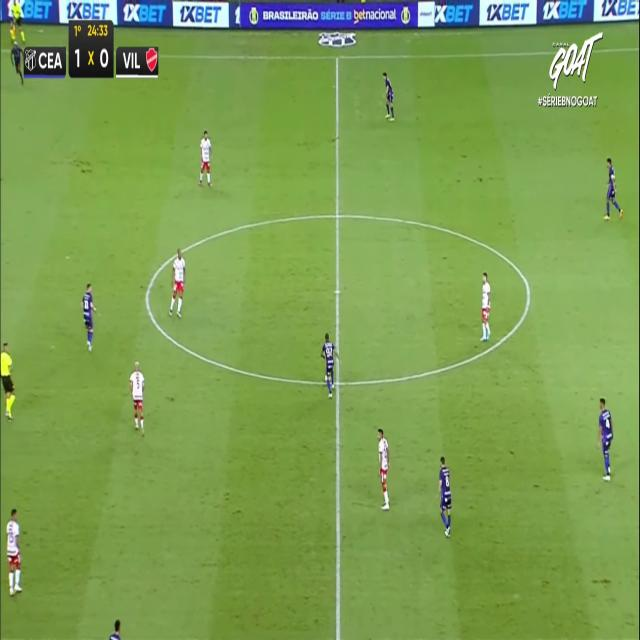ball: (324, 372, 333, 385)
player: (6, 508, 23, 595), (597, 397, 613, 480), (436, 455, 452, 536), (604, 157, 623, 220), (128, 359, 144, 433), (168, 248, 185, 317), (81, 282, 98, 350), (321, 332, 337, 397), (378, 427, 390, 509), (480, 272, 491, 340), (10, 37, 25, 86), (199, 130, 211, 185), (382, 70, 394, 121)
referee: (0, 340, 15, 420)
